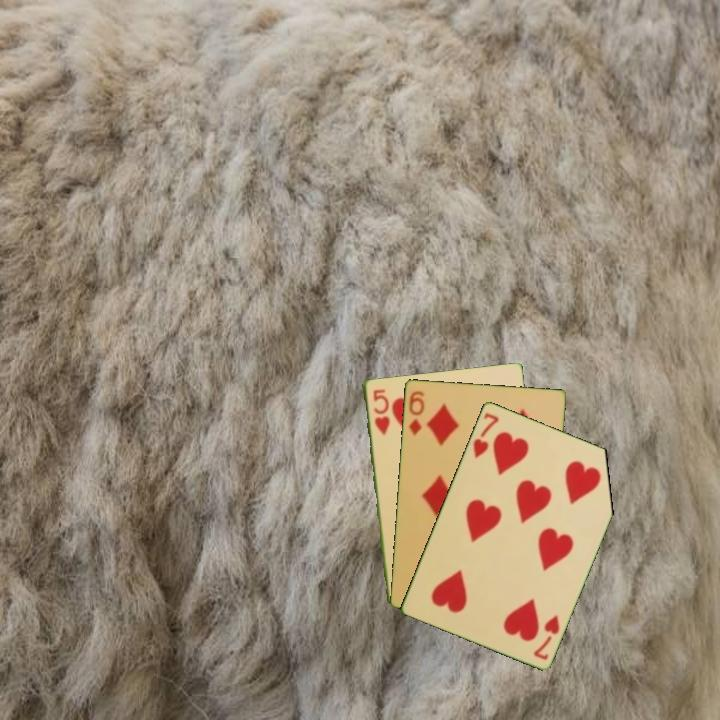5h: (369, 385, 392, 437)
6d: (405, 387, 427, 438)
7h: (469, 409, 502, 461), (530, 611, 562, 663)
